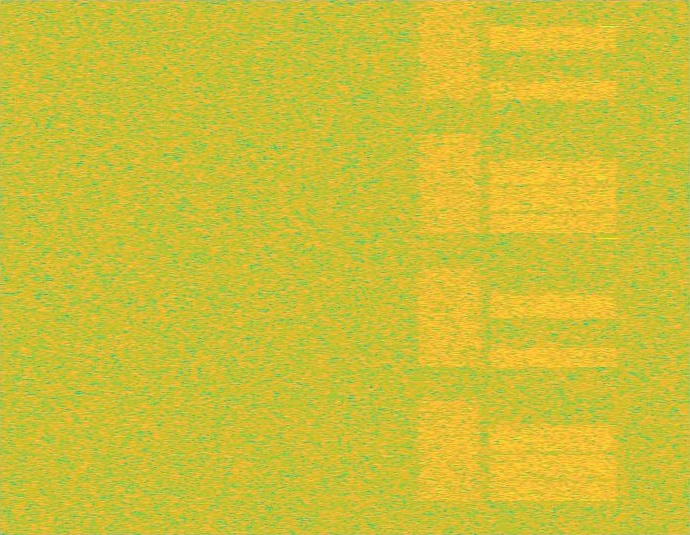5G: (415, 0, 484, 534)
LTE: (484, 0, 622, 534)
Radar: (602, 0, 616, 534)
